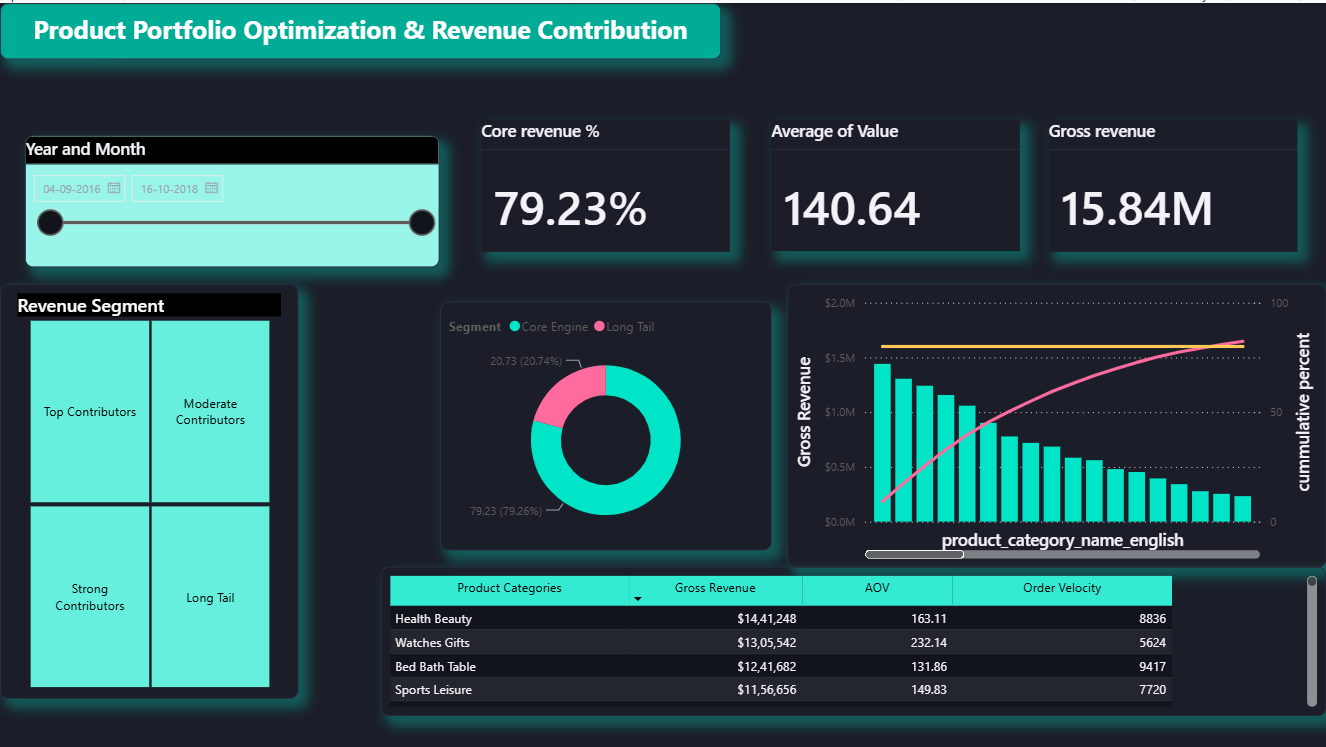

What the dashboard file says about the page in this screenshot:
{"tool":"powerbi","page":{"name":"Pareto","canvas":[1280,720],"ordinal":2},"visuals":[{"type":"cardVisual","title":"Gross revenue","fields":{"Data":["order_items_clean.Gross_revenue"]},"box":[1012.2,112.2,240.1,127.9],"z":0},{"type":"cardVisual","title":"Average of Value","fields":{"Data":["order_items_clean.AOV"]},"box":[744.7,112.5,239.7,127.2],"z":1000},{"type":"actionButton","box":[0,0,100,40],"z":2000},{"type":"slicer","title":"Year and Month","fields":{"Values":["orders_cleaned.pur_date (bins)"]},"box":[24.5,128.4,399.9,127.2],"z":3000},{"type":"donutChart","fields":{"Category":["pareto_dashboard.Segment"],"Y":["Sum(pareto_dashboard.revenue_pct)"]},"box":[424.3,288.6,320.4,239.7],"z":4000},{"type":"lineClusteredColumnComboChart","fields":{"Category":["pareto_dashboard.product_category_name_english"],"Y":["Sum(pareto_dashboard.gross_revenue)"],"Y2":["Sum(pareto_dashboard.cumulative_pct)","pareto_dashboard.Pareto Threshold"]},"box":[760.6,271.5,519.7,273.9],"z":5000},{"type":"slicer","fields":{"Values":["pareto_dashboard.Revenue Segment"]},"box":[0,272,288,400],"z":6000},{"type":"pivotTable","fields":{"Rows":["pareto_dashboard.product_category_name_english"],"Values":["Sum(pareto_dashboard.gross_revenue)","select","Sum(pareto_dashboard.AOV)","Sum(pareto_dashboard.order_velocity)"]},"box":[368,544,912,144],"z":7000},{"type":"cardVisual","title":"Core revenue %","fields":{"Data":["pareto_dashboard.Core Revenue %"]},"box":[464.5,112.2,240.1,127.9],"z":8000},{"type":"textbox","title":"Product Portfolio Optimization & Revenue Contribution","box":[0,0,696.1,54.3],"z":9000}]}

Visuals, with their boxes in screenshot pixels (x1, y1, x2, y2), scaled from the page's 1280x720 canvas onto the 1326x747 screenshot:
"Gross revenue" cardVisual: region(1049, 116, 1297, 249)
"Average of Value" cardVisual: region(771, 117, 1020, 249)
actionButton: region(0, 0, 104, 42)
"Year and Month" slicer: region(25, 133, 440, 265)
donutChart - pareto_dashboard.Segment x Sum(pareto_dashboard.revenue_pct): region(440, 299, 771, 548)
lineClusteredColumnComboChart - pareto_dashboard.product_category_name_english x Sum(pareto_dashboard.gross_revenue): region(788, 282, 1325, 566)
slicer - pareto_dashboard.Revenue Segment: region(0, 282, 298, 697)
pivotTable - pareto_dashboard.product_category_name_english x Sum(pareto_dashboard.gross_revenue): region(381, 564, 1325, 714)
"Core revenue %" cardVisual: region(481, 116, 730, 249)
"Product Portfolio Optimization & Revenue Contribution" textbox: region(0, 0, 721, 56)
